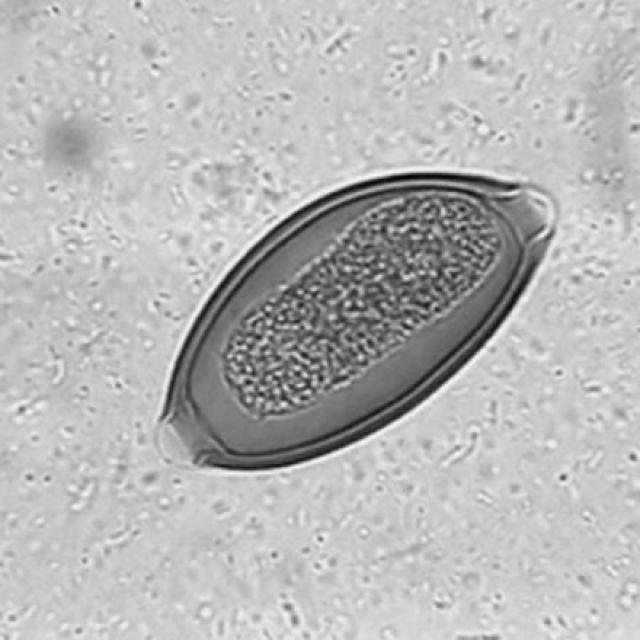Trichuris Trichiura: (144, 157, 572, 492)
